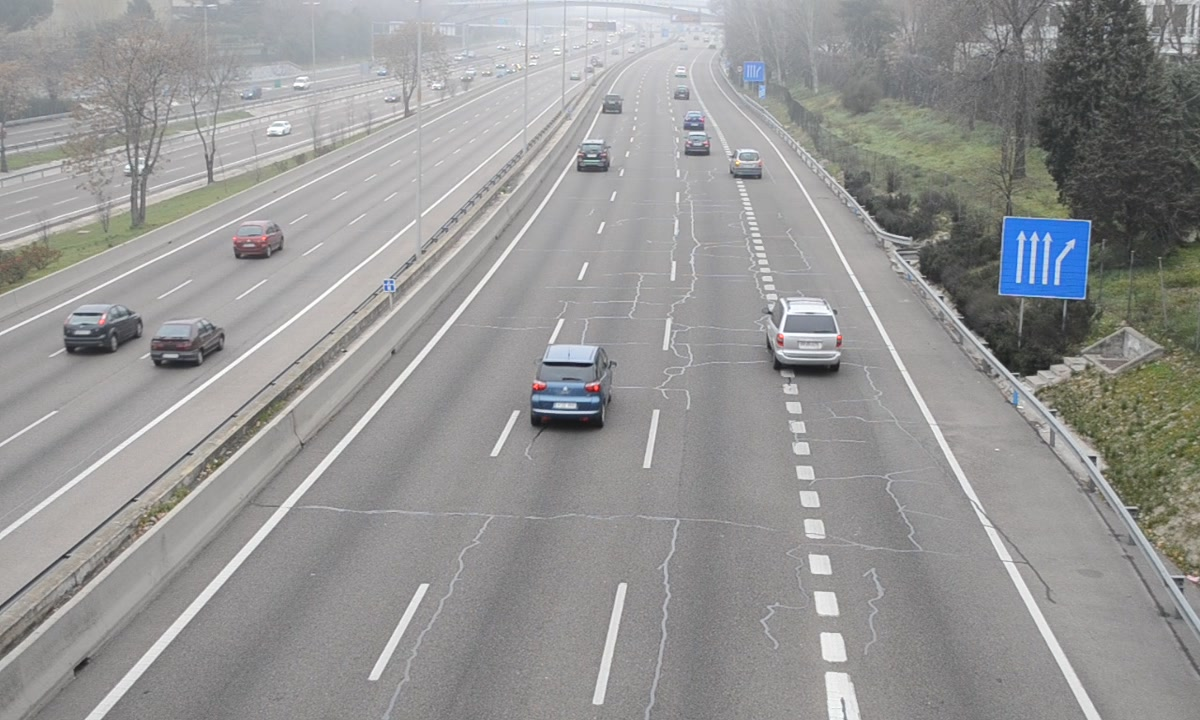car: (529, 344, 614, 423), (765, 298, 841, 367), (577, 139, 610, 173), (730, 147, 763, 180), (684, 130, 711, 157)
